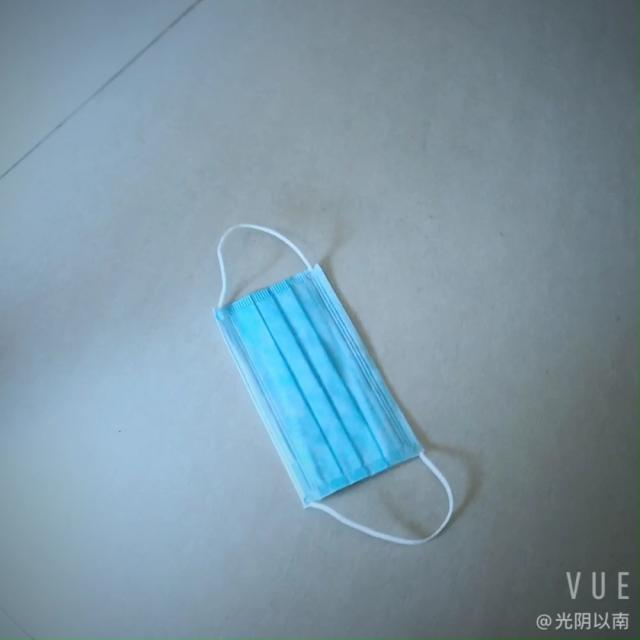face mask: (218, 260, 427, 504)
